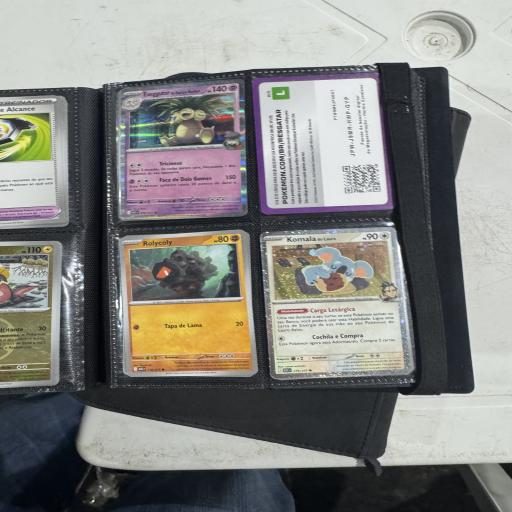card: (259, 220, 412, 386), (118, 229, 256, 382), (118, 78, 248, 220)
